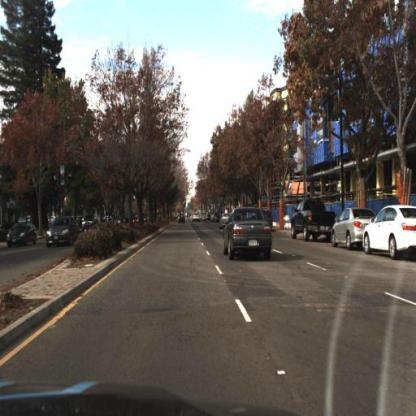car: (223, 205, 276, 263), (363, 206, 416, 261), (290, 197, 338, 242), (331, 206, 377, 252), (48, 217, 82, 248), (8, 221, 39, 250), (80, 212, 101, 233), (174, 210, 188, 229), (191, 209, 202, 225)
